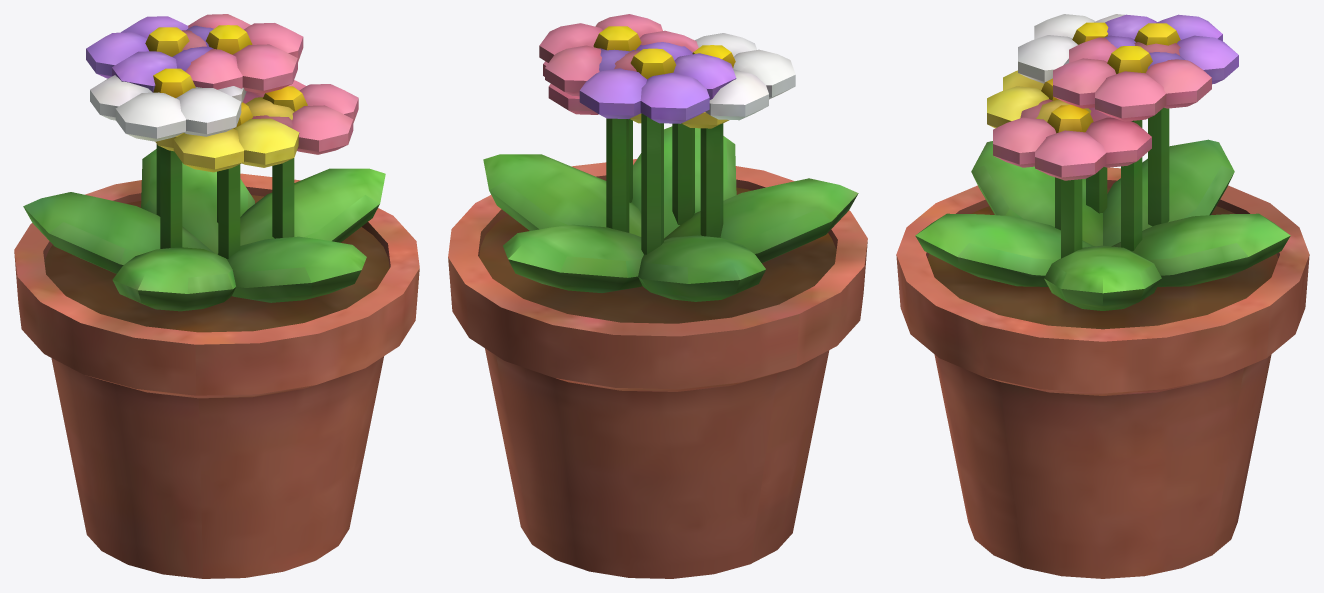
Rendered from pot_14711391.glb.
3 views of the same model, side by side, from view 1: azimuth 30°, elevation 25°; view 2: azimuth 150°, elevation 25°; view 3: azimuth 270°, elevation 25° (orthographic). The views are drawn at different scales.
Parts seen in each view (by area): view 1: lathe; view 2: lathe; view 3: lathe.
Boxes of the visible parts, x1,y1,x2,y2 form: lathe: (14,14,419,578); lathe: (448,14,867,578); lathe: (896,14,1309,578).
Size of the model in its own units: 0.98 by 1.28 by 0.98.
Materials: 1 (1 with a texture image).
